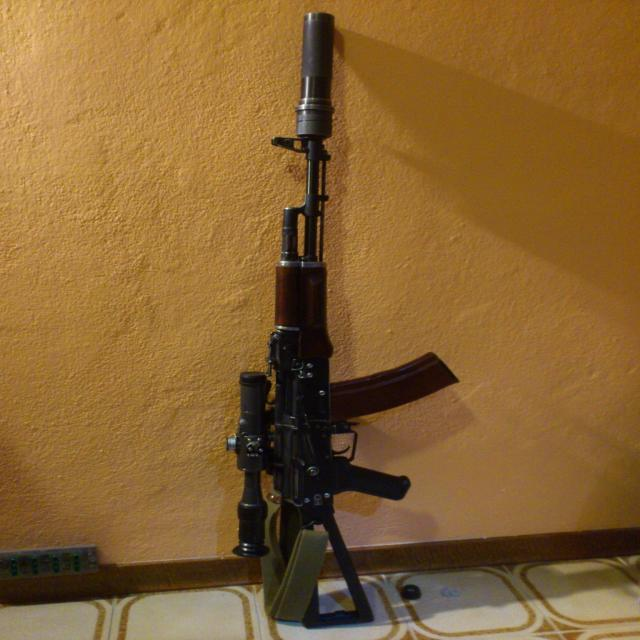firearm: (220, 14, 458, 628)
